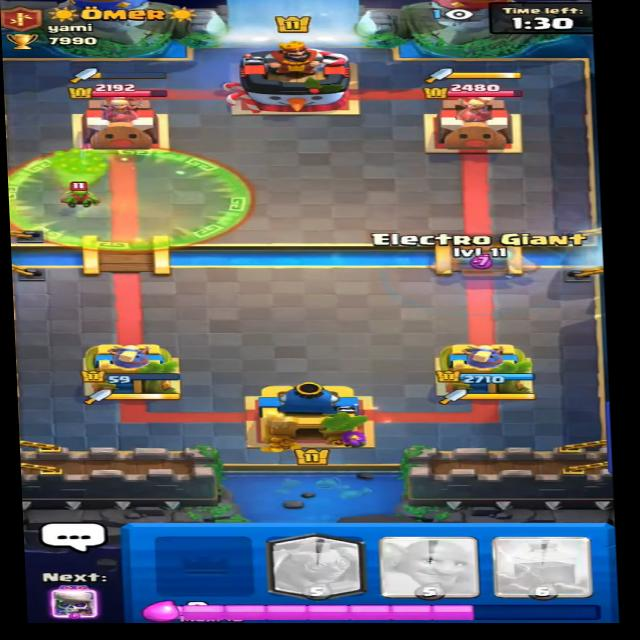goblin: (54, 178, 105, 206)
goblin-curse: (6, 144, 252, 253)
